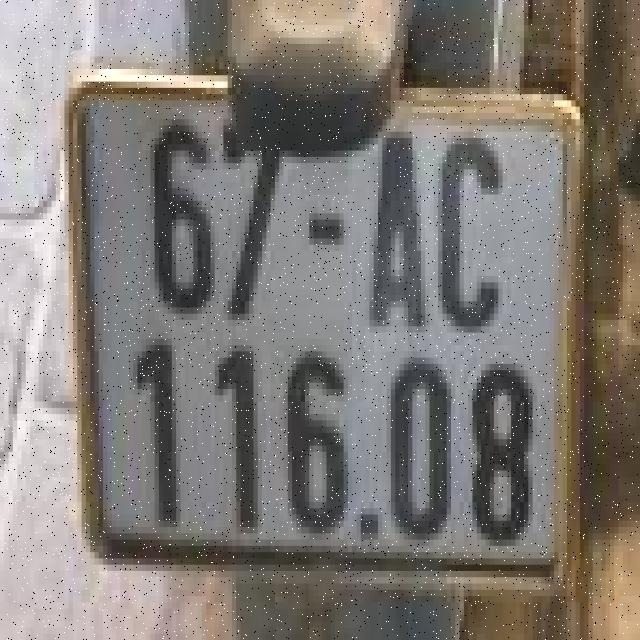0: (387, 355, 455, 549)
1: (135, 336, 187, 530), (217, 342, 264, 530)
6: (150, 113, 219, 320), (286, 345, 354, 540)
7: (224, 116, 284, 323)
8: (470, 361, 535, 549)
A: (368, 125, 428, 332)
C: (438, 132, 503, 332)
